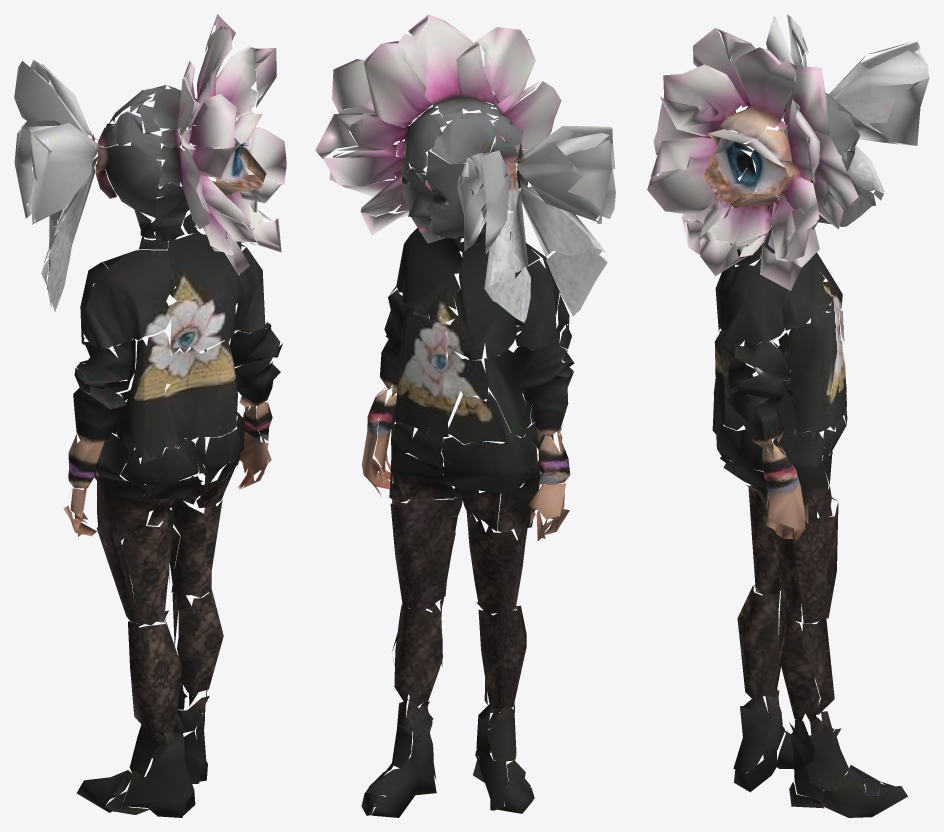
File: crowd_susan.glb
3 renders of one model, left to right at view 1: azimuth 30°, elevation 25°; view 2: azimuth 150°, elevation 25°; view 3: azimuth 270°, elevation 25°, orthographic.
Visible parts, largest first — view 1: tripo_node_fbabcdb4-667d-453d-b6af-065c32072f40; view 2: tripo_node_fbabcdb4-667d-453d-b6af-065c32072f40; view 3: tripo_node_fbabcdb4-667d-453d-b6af-065c32072f40.
Part boxes in pixels (x1,y1,x2,y2): tripo_node_fbabcdb4-667d-453d-b6af-065c32072f40: (14,14,286,817); tripo_node_fbabcdb4-667d-453d-b6af-065c32072f40: (315,14,615,817); tripo_node_fbabcdb4-667d-453d-b6af-065c32072f40: (647,14,929,817).
Size of the model in its own units: 0.718 by 1.88 by 0.6289.
1 material, 1 textured.
